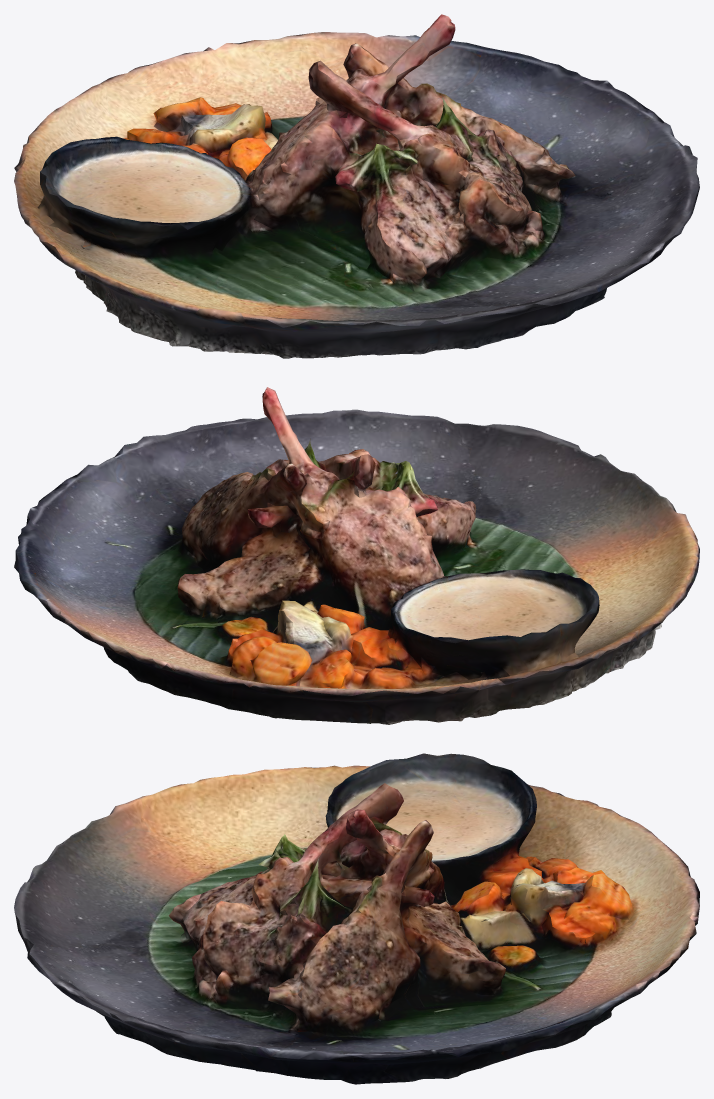
Rendered from prvo-final.glb.
The picture shows the model from 3 angles, top to bottom: view 1: azimuth 30°, elevation 25°; view 2: azimuth 150°, elevation 25°; view 3: azimuth 270°, elevation 25°; orthographic projection.
Visible parts, largest first — view 1: Object_2; view 2: Object_2; view 3: Object_2.
Boxes of the visible parts, x1,y1,x2,y2 form: Object_2: (14, 14, 699, 358); Object_2: (14, 387, 699, 724); Object_2: (14, 753, 699, 1084).
Size of the model in its own units: 0.3074 by 0.1004 by 0.3053.
1 material, 1 textured.
